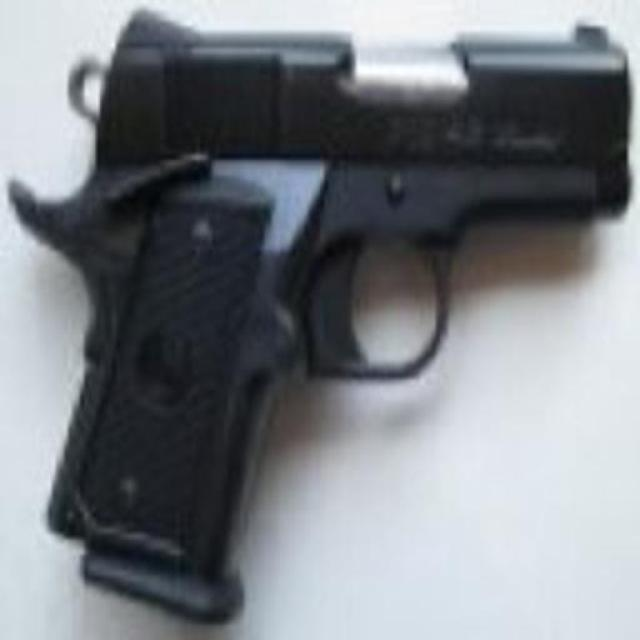pistol: (47, 15, 627, 607)
